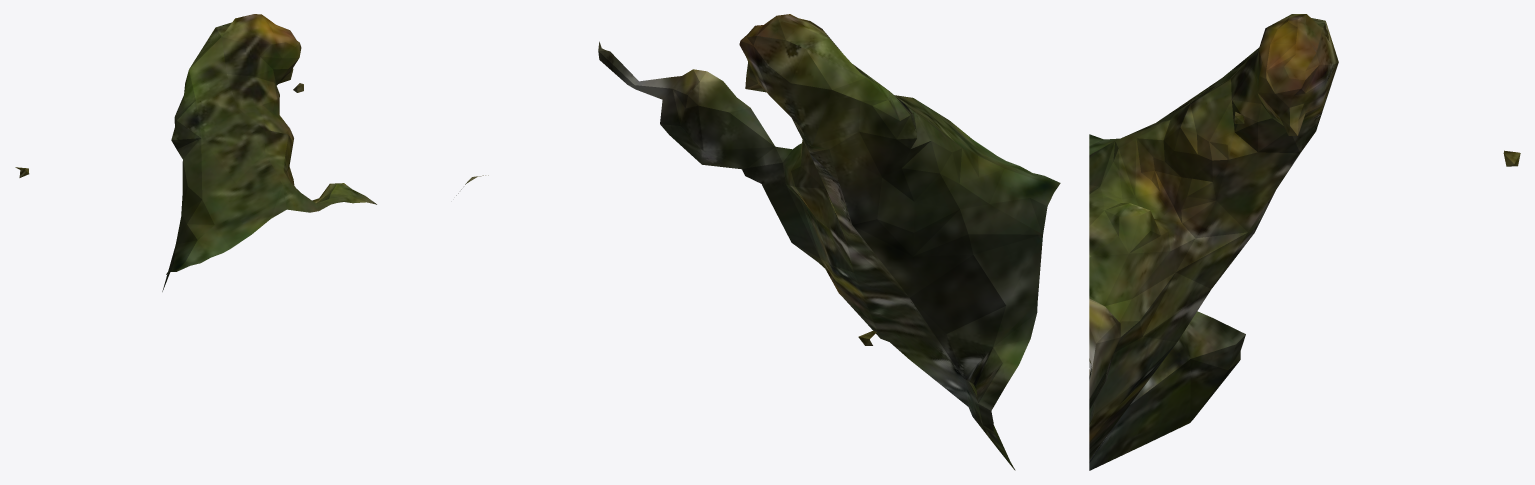
3 renders of one model, left to right at view 1: azimuth 30°, elevation 25°; view 2: azimuth 150°, elevation 25°; view 3: azimuth 270°, elevation 25°, orthographic. The views are drawn at different scales.
Size of the model in its own units: 0.8373 by 0.7731 by 0.5997.
Materials: 2 (2 with a texture image).
